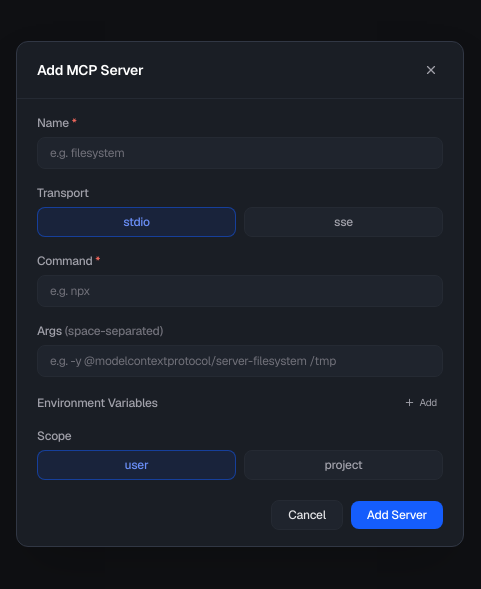
Test: AddMcpServerDialog › shows error when command is empty for stdio
The image size is (481, 589).
Type "myserver" into the field with placeholder "e.g. filesystem".
click(240, 153); type("myserver")  # box [37, 137, 443, 169]
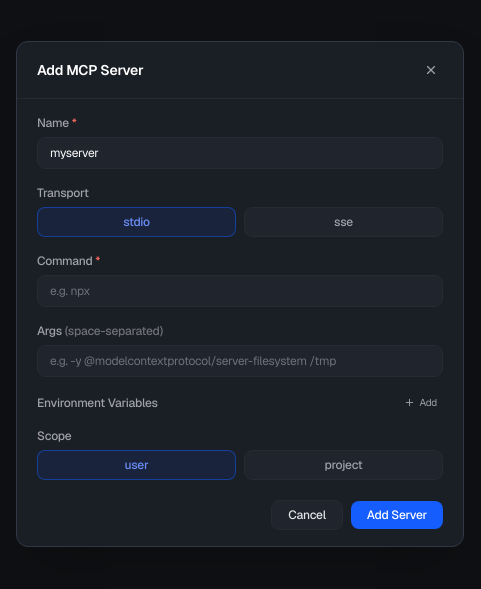
Submit the form
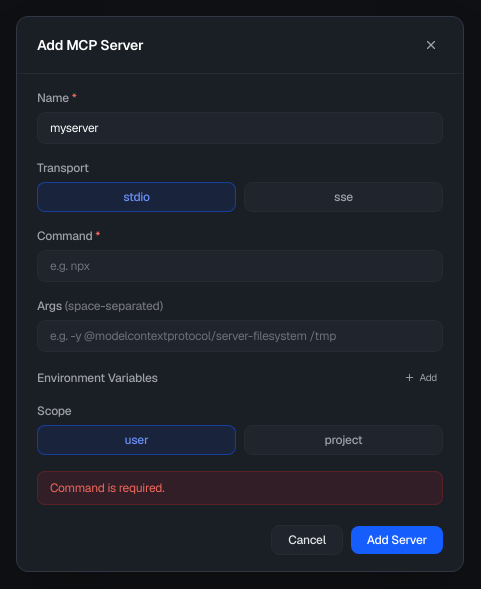
Expected: the text "Command is required." is shown, [37, 471, 443, 505]
